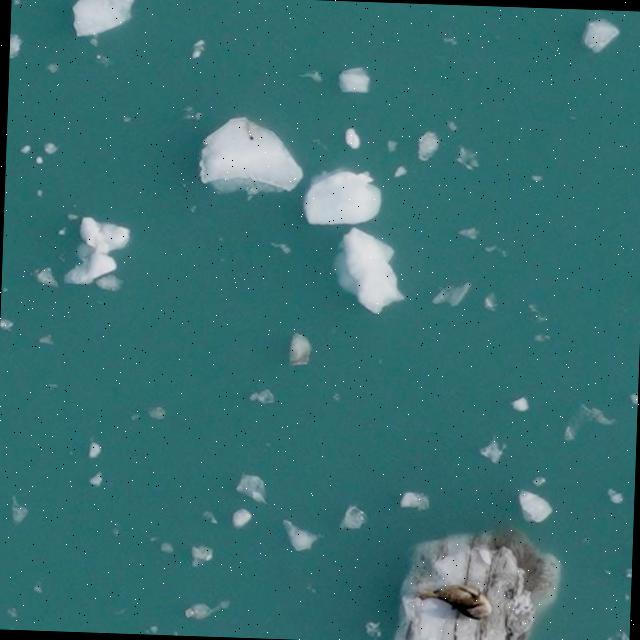seal: (416, 586, 489, 618)
